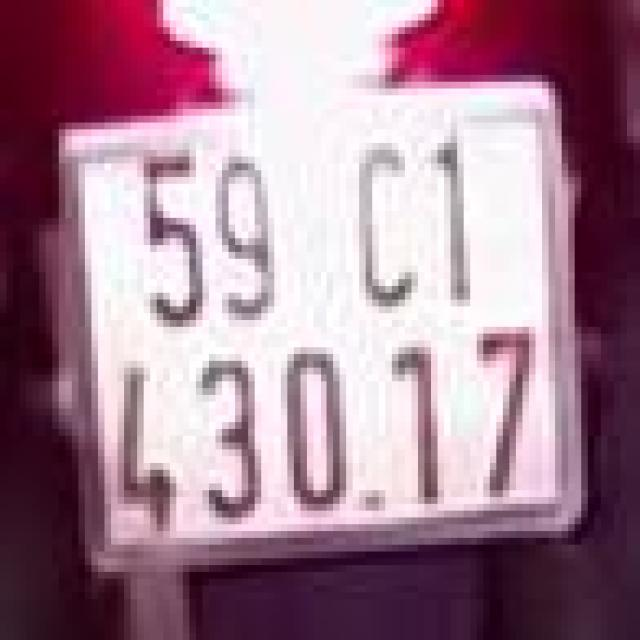0: (280, 320, 352, 517)
1: (418, 122, 483, 306), (388, 334, 454, 504)
3: (190, 347, 288, 524)
4: (92, 340, 190, 545)
5: (128, 140, 212, 337)
7: (464, 310, 548, 493)
9: (209, 160, 281, 323)
C: (343, 123, 421, 313)
